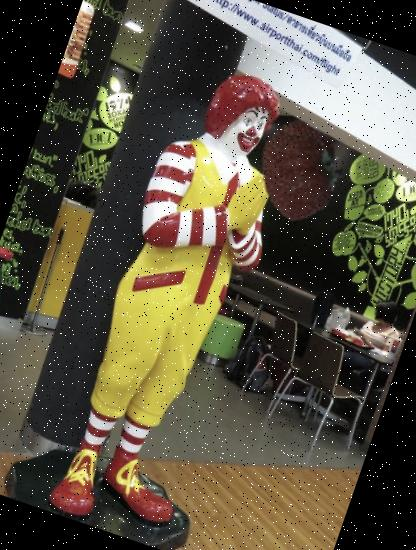Strawberry: (236, 104, 366, 234)
